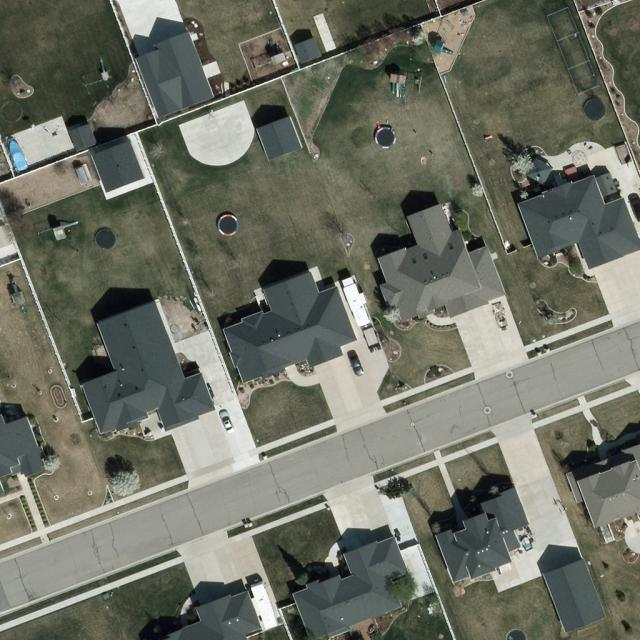vehicle: (216, 408, 236, 434), (349, 354, 364, 377)
